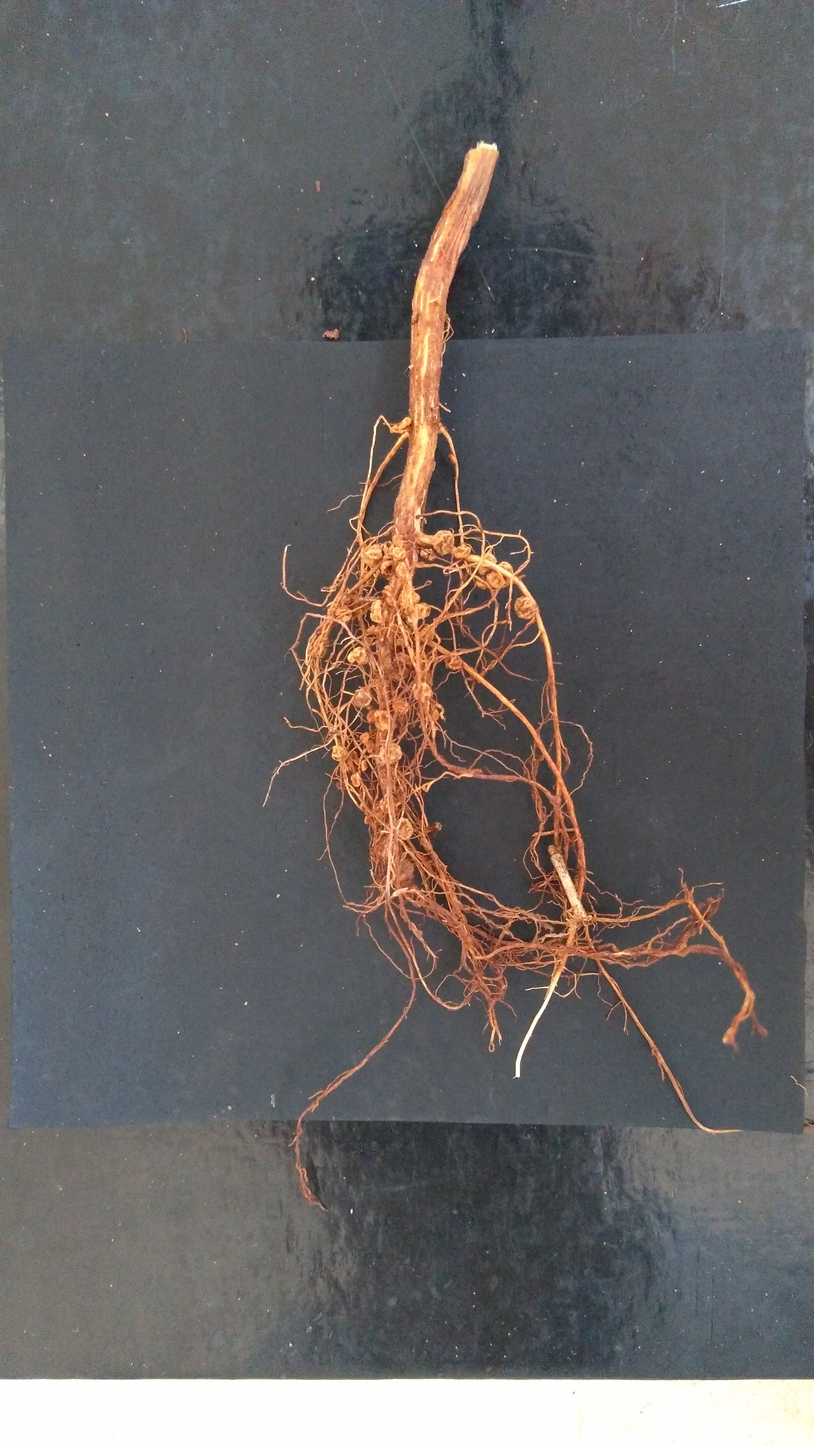nodule: (486, 562, 513, 588), (375, 836, 402, 861), (390, 652, 413, 681), (398, 585, 414, 623), (391, 858, 414, 882), (433, 530, 454, 556), (395, 617, 413, 647), (514, 596, 536, 619), (380, 742, 402, 764), (361, 544, 383, 566), (374, 709, 397, 730), (370, 599, 388, 624), (379, 794, 400, 814), (478, 553, 498, 574), (413, 682, 433, 702), (395, 818, 413, 840), (347, 647, 369, 665), (352, 688, 372, 707), (348, 591, 363, 615), (314, 636, 329, 658), (392, 696, 409, 714), (444, 653, 462, 669), (382, 585, 395, 607), (344, 750, 358, 770), (380, 559, 396, 575), (426, 821, 442, 837), (331, 744, 346, 761), (335, 607, 352, 622), (454, 544, 471, 559), (416, 603, 431, 619), (429, 700, 440, 721), (392, 547, 407, 562), (420, 548, 437, 561), (395, 561, 408, 578), (360, 571, 374, 586), (380, 540, 394, 554), (398, 417, 411, 432), (367, 708, 378, 723), (392, 534, 404, 547), (476, 577, 488, 589), (351, 773, 361, 787), (365, 740, 375, 753), (336, 781, 350, 790), (340, 595, 351, 606), (360, 731, 370, 743), (379, 729, 387, 742), (360, 759, 368, 771), (366, 625, 376, 634), (413, 591, 420, 603), (364, 815, 373, 824), (359, 801, 367, 811), (444, 313, 451, 324), (449, 454, 456, 464), (390, 425, 398, 433)
